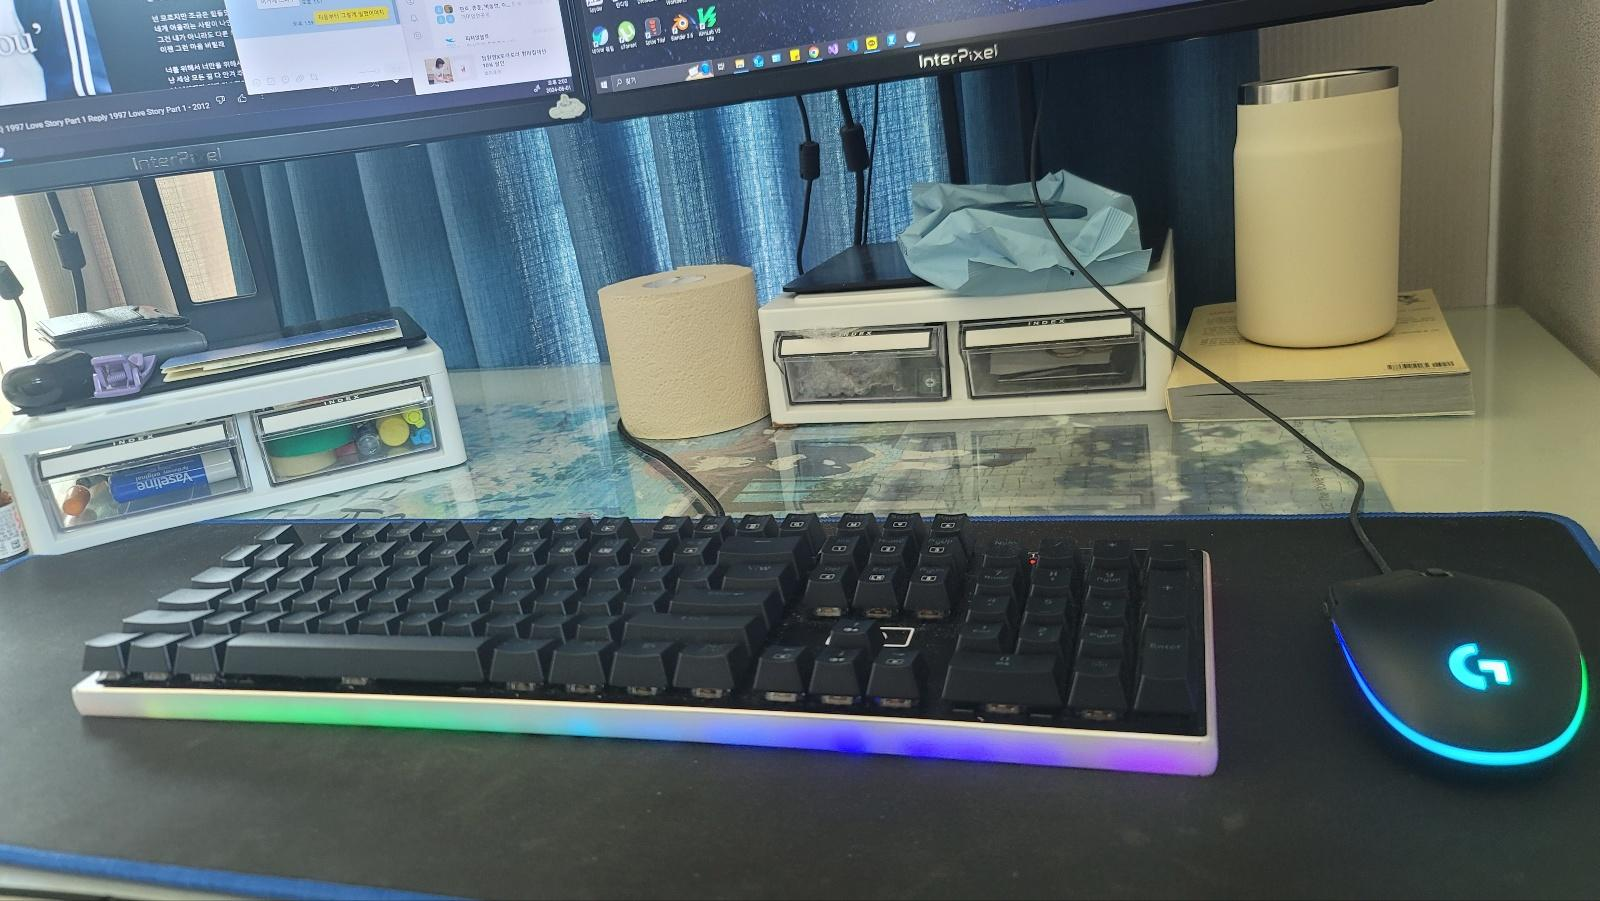book: (1164, 286, 1475, 422)
keyboard: (73, 509, 1216, 771)
mouse: (1321, 565, 1589, 780)
